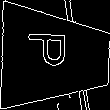P_E: (32, 38, 79, 77)
